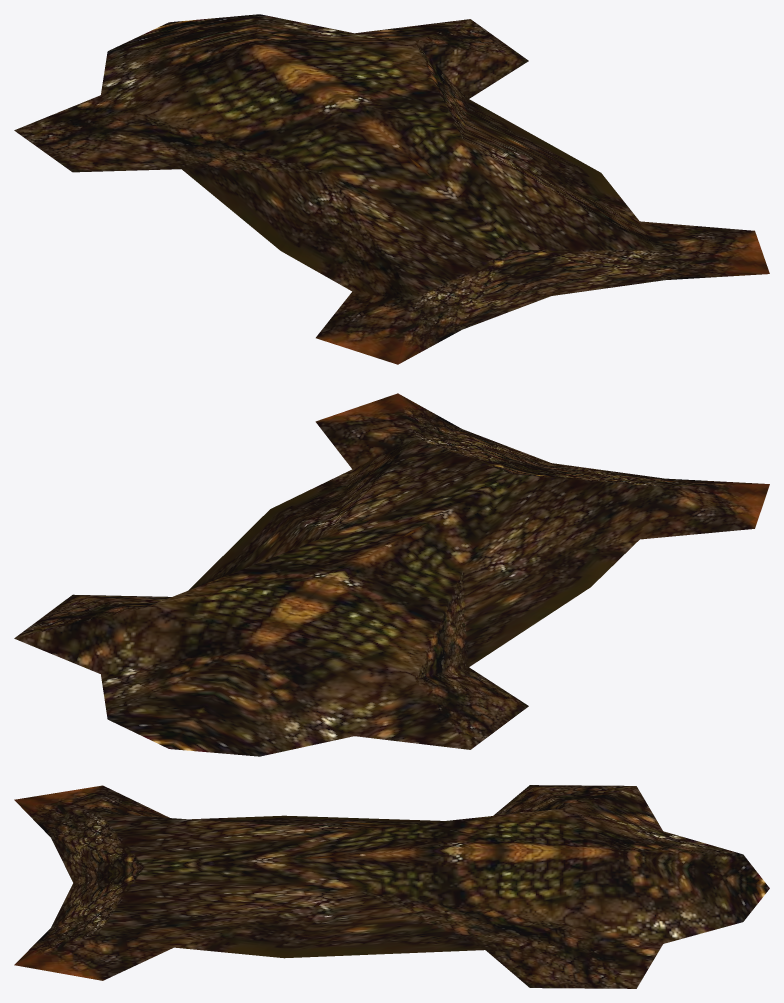
File: ITAT_GS_JASZCZUR_G.glb
The picture shows the model from 3 angles, top to bottom: view 1: azimuth 30°, elevation 25°; view 2: azimuth 150°, elevation 25°; view 3: azimuth 270°, elevation 25°; orthographic projection. The views are drawn at different scales.
Visible parts, largest first — view 1: ITAT_GS_JASZCZUR_G; view 2: ITAT_GS_JASZCZUR_G; view 3: ITAT_GS_JASZCZUR_G.
Boxes of the visible parts, x1,y1,x2,y2 form: ITAT_GS_JASZCZUR_G: [14, 14, 769, 364]; ITAT_GS_JASZCZUR_G: [14, 393, 769, 756]; ITAT_GS_JASZCZUR_G: [14, 785, 769, 988].
Bounding box in the file's own units: 1.08 × 0.1031 × 1.7.
Materials: 1 (1 with a texture image).
